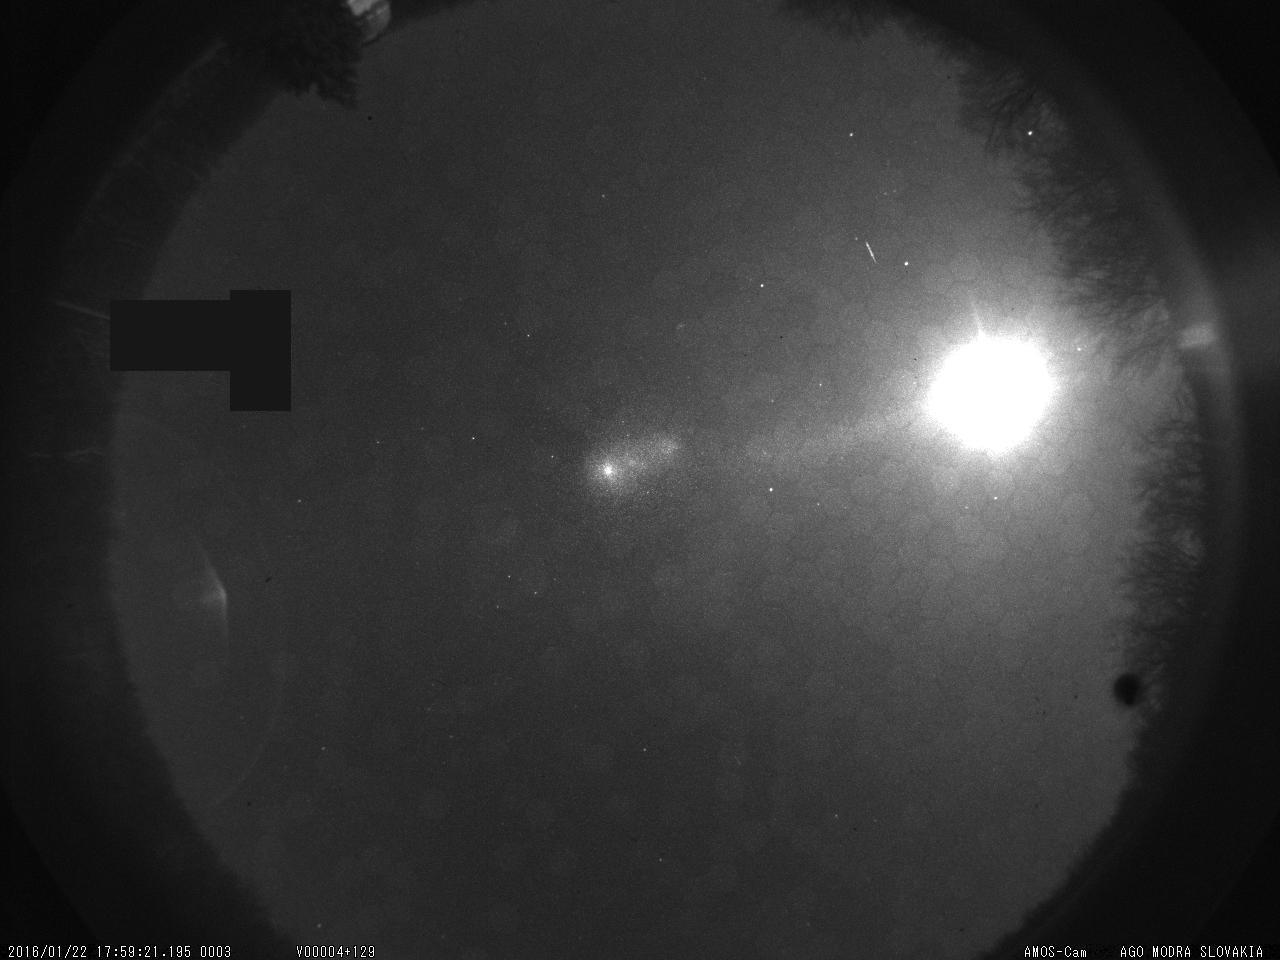meteor: (861, 236, 883, 269)
